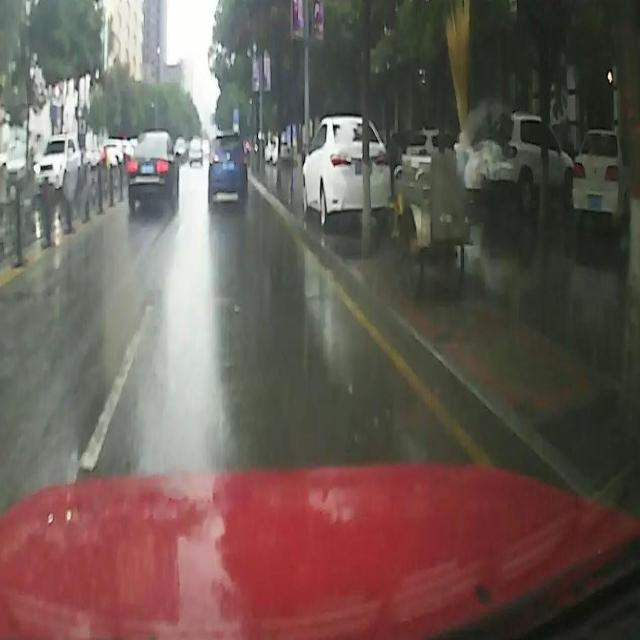car: (300, 114, 391, 230), (128, 128, 180, 208), (36, 132, 82, 201), (208, 130, 250, 202)
